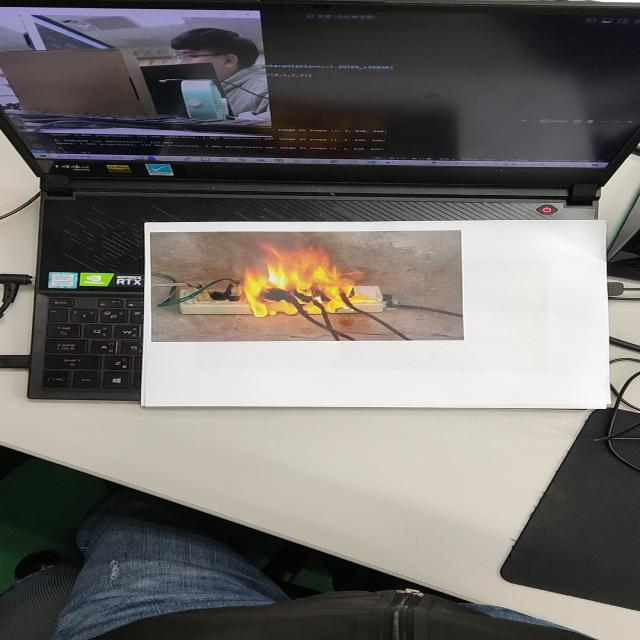person: (156, 24, 261, 114)
